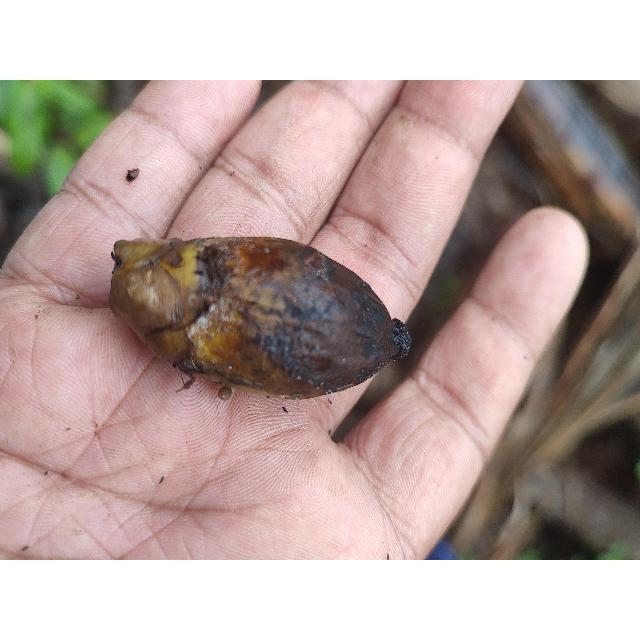damaged: (108, 237, 413, 400)
